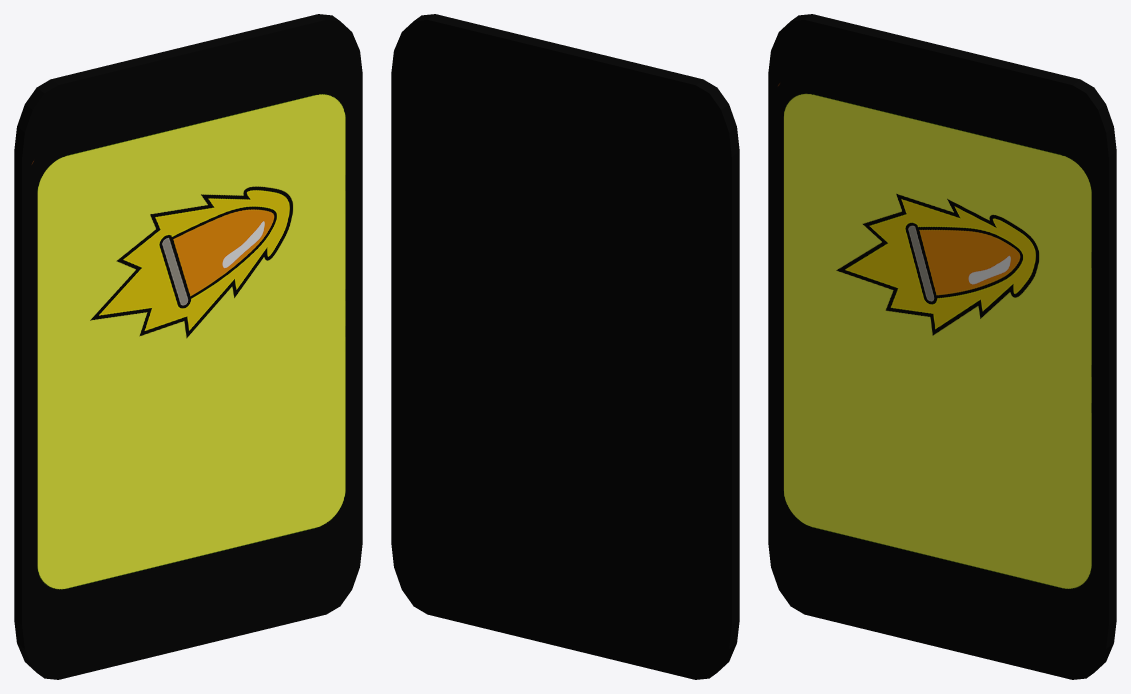
File: mermi.fbx
The picture shows the model from 3 angles, left to right: view 1: azimuth 30°, elevation 25°; view 2: azimuth 150°, elevation 25°; view 3: azimuth 330°, elevation 25°; orthographic projection.
Parts seen in each view (by area): view 1: Cube; view 2: Cube; view 3: Cube.
Boxes of the visible parts, left/top/right/bottom form: Cube: left=14, top=14, right=362, bottom=679; Cube: left=391, top=14, right=739, bottom=679; Cube: left=768, top=14, right=1116, bottom=679.
Bounding box in the file's own units: 302 × 504 × 12.15.
